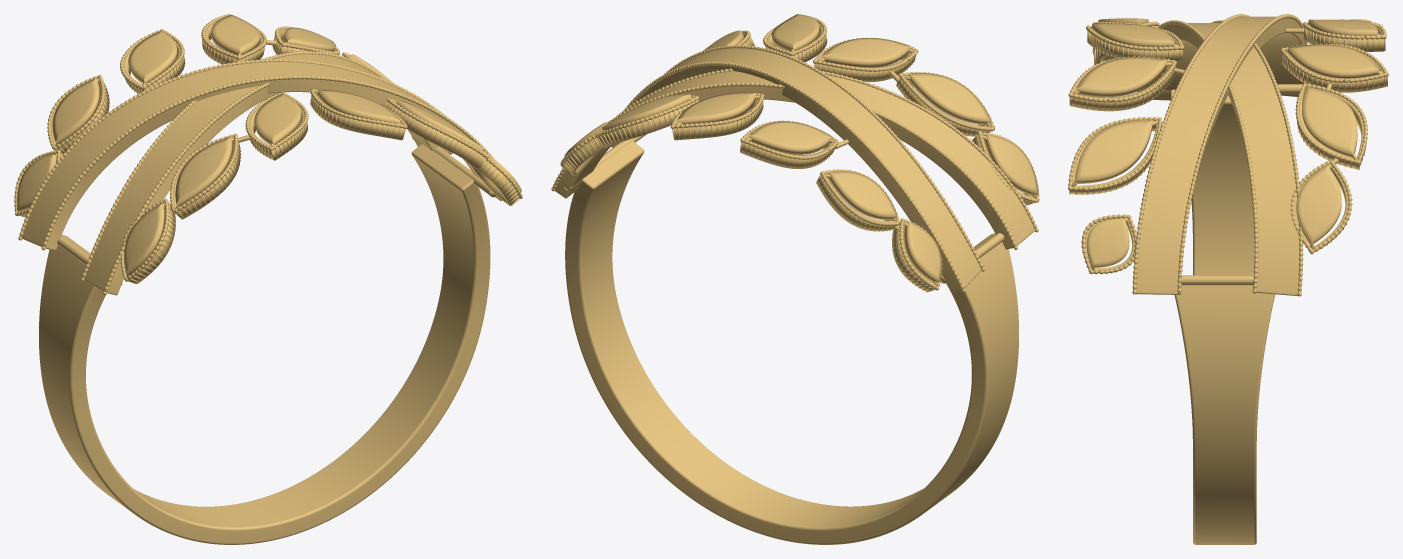
The picture shows the model from 3 angles, left to right: view 1: azimuth 30°, elevation 25°; view 2: azimuth 150°, elevation 25°; view 3: azimuth 270°, elevation 25°; orthographic projection. The views are drawn at different scales.
Visible parts, largest first — view 1: Complete tapered comfort shank | reverse inferred, Upper crossing ribbon, Milgrain | individual rounded gold beads, Lower crossing ribbon, Leaf fringe 8 raised convex polished platelet, Leaf fringe 2 raised convex polished platelet, Leaf fringe 3 raised convex polished platelet, Leaf fringe 9 raised convex polished platelet, Leaf fringe 7 raised convex polished platelet, Leaf fringe 4 raised convex polished platelet, Leaf fringe 10 raised convex polished platelet, Leaf fringe 1 raised convex polished platelet (+10 smaller); view 2: Complete tapered comfort shank | reverse inferred, Upper crossing ribbon, Lower crossing ribbon, Milgrain | individual rounded gold beads, Leaf fringe 8 raised convex polished platelet, Leaf fringe 3 raised convex polished platelet, Leaf fringe 9 raised convex polished platelet, Leaf fringe 2 raised convex polished platelet, Leaf fringe 7 raised convex polished platelet, Leaf fringe 4 raised convex polished platelet, Leaf fringe 1 raised convex polished platelet, Leaf fringe 10 raised convex polished platelet (+12 smaller); view 3: Complete tapered comfort shank | reverse inferred, Upper crossing ribbon, Lower crossing ribbon, Milgrain | individual rounded gold beads, Leaf fringe 11 raised convex polished platelet, Leaf fringe 5 raised convex polished platelet, Leaf fringe 10 raised convex polished platelet, Leaf fringe 6 raised convex polished platelet, Leaf fringe 4 raised convex polished platelet, Leaf fringe 12 raised convex polished platelet, Leaf fringe 9 raised convex polished platelet, Leaf fringe 10 open marquise gallery (+14 smaller).
Boxes of the visible parts, x1=… form: Complete tapered comfort shank | reverse inferred: x1=39, y1=144, x2=490, y2=544; Upper crossing ribbon: x1=22, y1=62, x2=501, y2=250; Milgrain | individual rounded gold beads: x1=14, y1=14, x2=522, y2=295; Lower crossing ribbon: x1=84, y1=54, x2=449, y2=295; Leaf fringe 8 raised convex polished platelet: x1=175, y1=137, x2=232, y2=206; Leaf fringe 2 raised convex polished platelet: x1=52, y1=78, x2=99, y2=143; Leaf fringe 3 raised convex polished platelet: x1=128, y1=30, x2=177, y2=83; Leaf fringe 9 raised convex polished platelet: x1=254, y1=93, x2=301, y2=145; Leaf fringe 7 raised convex polished platelet: x1=124, y1=203, x2=164, y2=274; Leaf fringe 4 raised convex polished platelet: x1=211, y1=14, x2=260, y2=55; Leaf fringe 10 raised convex polished platelet: x1=318, y1=89, x2=400, y2=123; Leaf fringe 1 raised convex polished platelet: x1=16, y1=154, x2=56, y2=210; Complete tapered comfort shank | reverse inferred: x1=565, y1=141, x2=1018, y2=544; Upper crossing ribbon: x1=611, y1=48, x2=981, y2=292; Lower crossing ribbon: x1=555, y1=71, x2=1034, y2=249; Milgrain | individual rounded gold beads: x1=551, y1=15, x2=1039, y2=292; Leaf fringe 8 raised convex polished platelet: x1=908, y1=73, x2=991, y2=125; Leaf fringe 3 raised convex polished platelet: x1=749, y1=121, x2=832, y2=154; Leaf fringe 9 raised convex polished platelet: x1=821, y1=38, x2=910, y2=67; Leaf fringe 2 raised convex polished platelet: x1=828, y1=171, x2=897, y2=220; Leaf fringe 7 raised convex polished platelet: x1=984, y1=134, x2=1038, y2=195; Leaf fringe 4 raised convex polished platelet: x1=677, y1=92, x2=756, y2=124; Leaf fringe 1 raised convex polished platelet: x1=904, y1=221, x2=942, y2=282; Leaf fringe 10 raised convex polished platelet: x1=771, y1=14, x2=819, y2=51; Complete tapered comfort shank | reverse inferred: x1=1170, y1=89, x2=1275, y2=544; Upper crossing ribbon: x1=1136, y1=16, x2=1305, y2=294; Lower crossing ribbon: x1=1137, y1=23, x2=1299, y2=295; Milgrain | individual rounded gold beads: x1=1068, y1=14, x2=1388, y2=295; Leaf fringe 11 raised convex polished platelet: x1=1074, y1=119, x2=1152, y2=183; Leaf fringe 5 raised convex polished platelet: x1=1302, y1=86, x2=1357, y2=157; Leaf fringe 10 raised convex polished platelet: x1=1076, y1=57, x2=1167, y2=97; Leaf fringe 6 raised convex polished platelet: x1=1296, y1=165, x2=1341, y2=244; Leaf fringe 4 raised convex polished platelet: x1=1288, y1=44, x2=1378, y2=78; Leaf fringe 12 raised convex polished platelet: x1=1086, y1=218, x2=1129, y2=267; Leaf fringe 9 raised convex polished platelet: x1=1092, y1=23, x2=1174, y2=47; Leaf fringe 10 open marquise gallery: x1=1071, y1=64, x2=1174, y2=111.
Bounding box in the file's own units: 0.0195 × 0.0204 × 0.0123.
